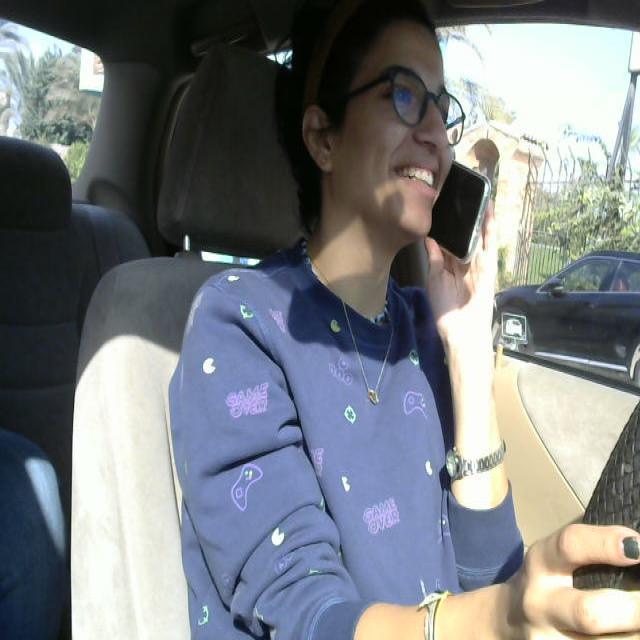mobile use: (427, 150, 492, 267)
